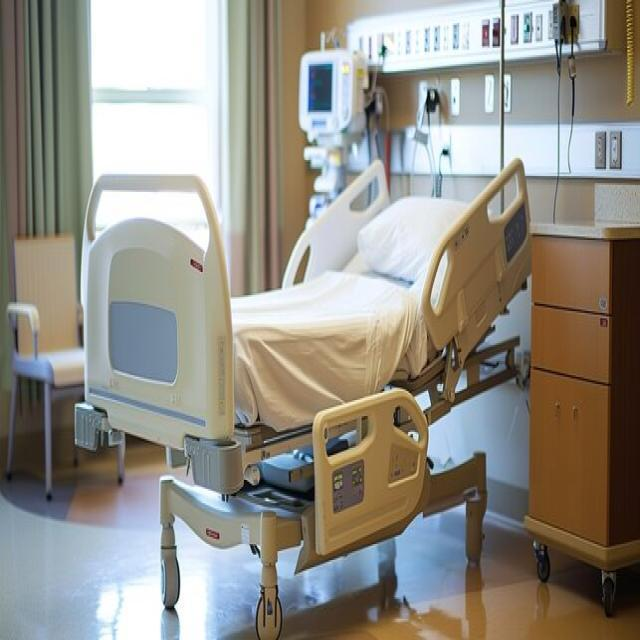Monitor: (294, 42, 364, 153)
bed: (74, 154, 532, 638)
